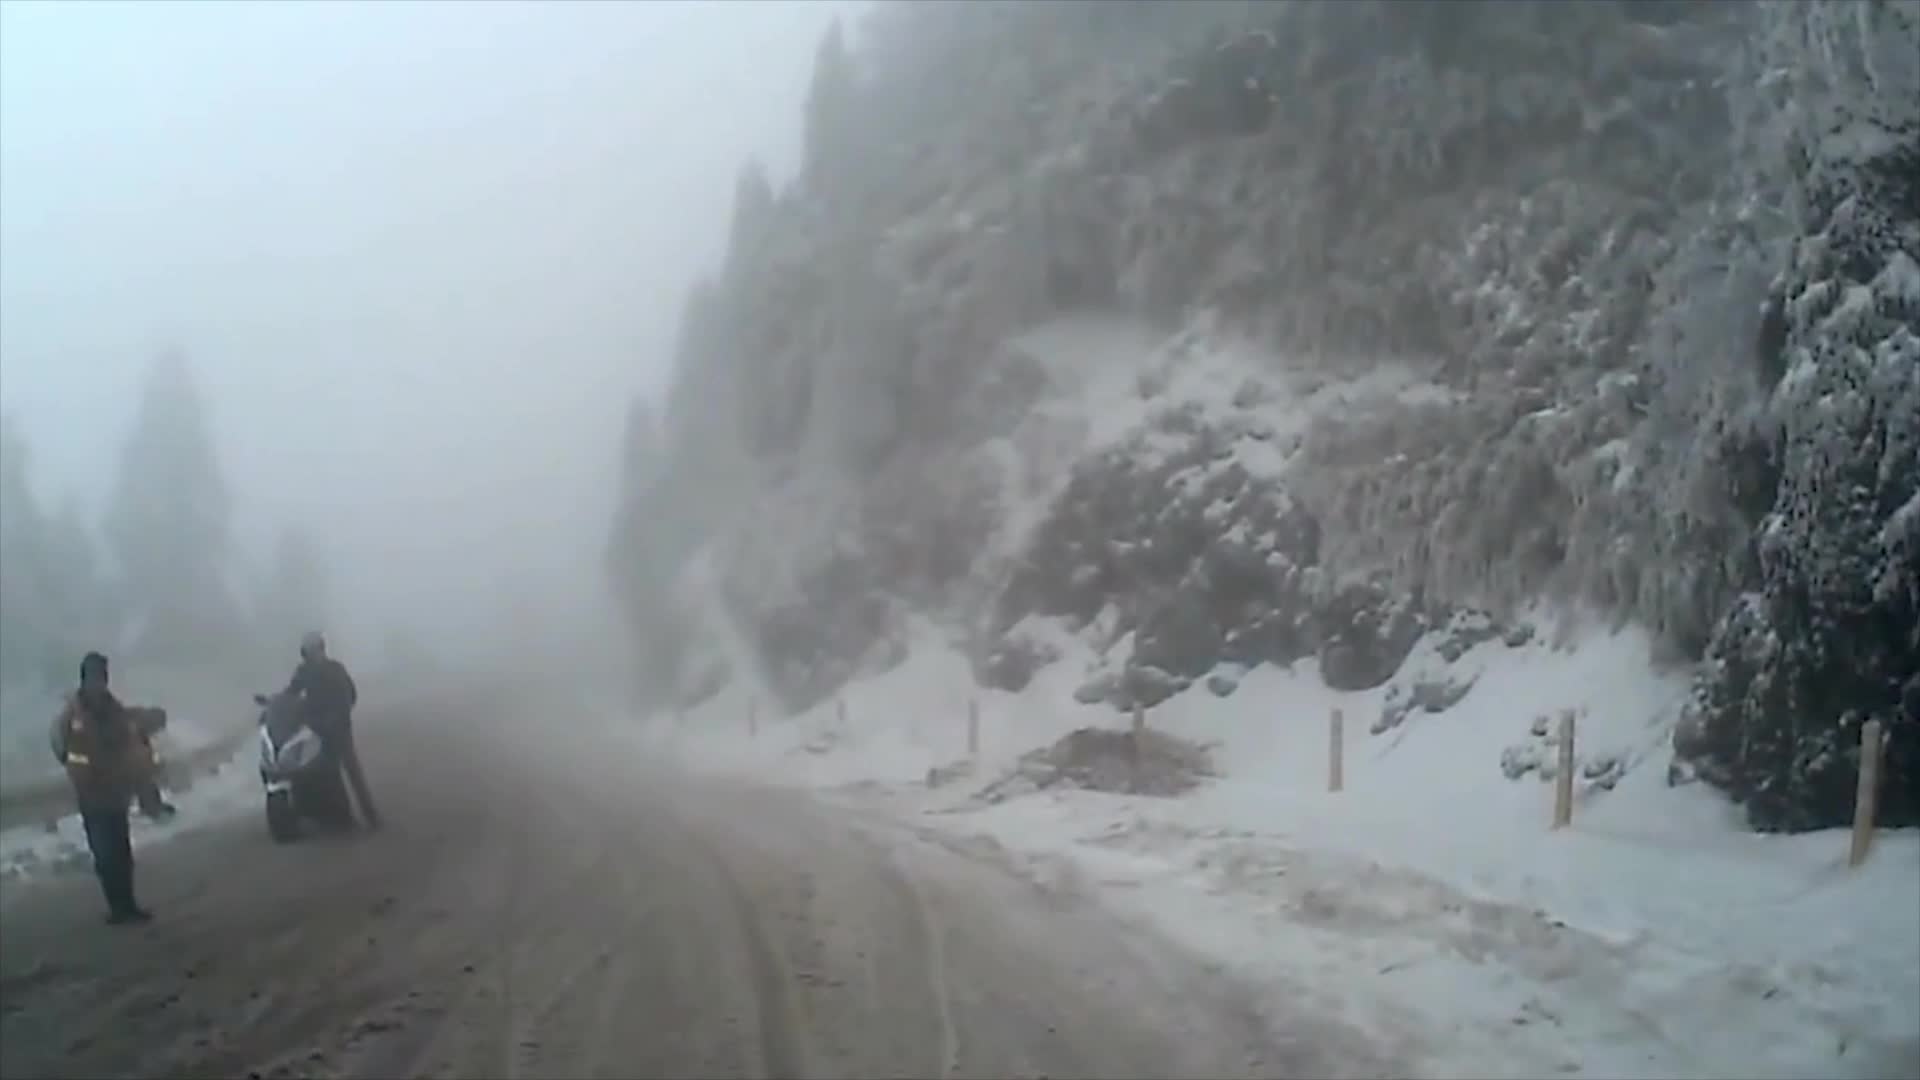pedestrian: (53, 657, 157, 931), (268, 628, 392, 844), (105, 708, 178, 825)
